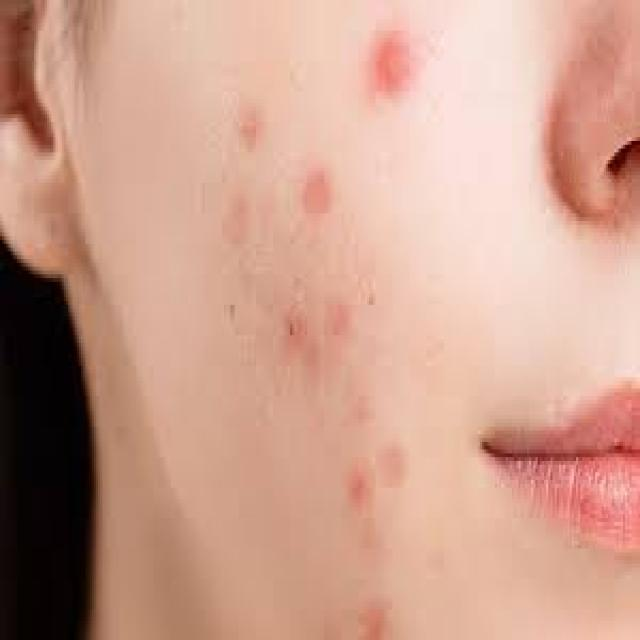Acne: (210, 115, 411, 634), (364, 17, 424, 108)
